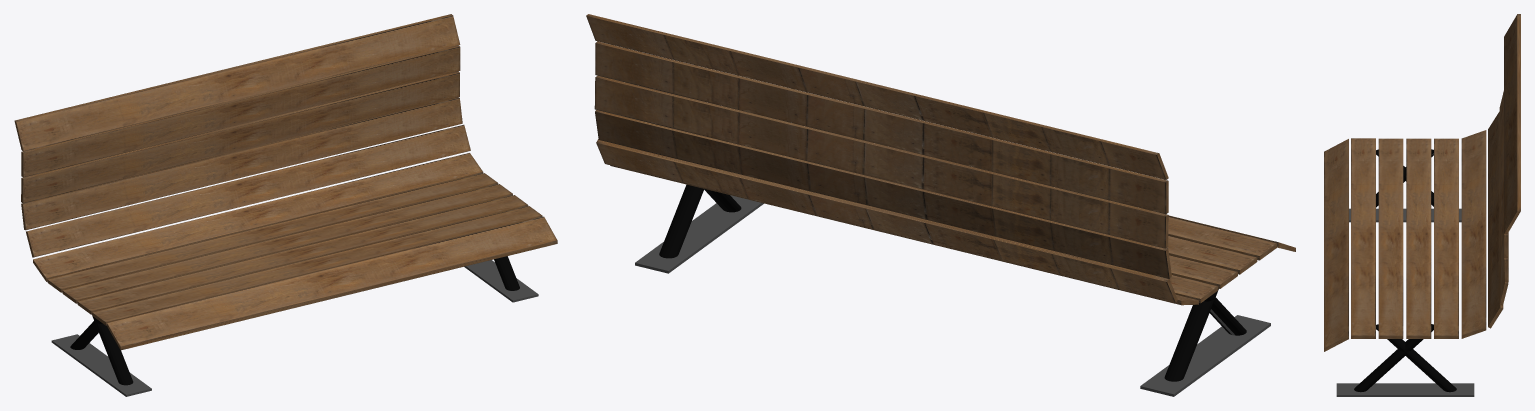
The model's file is Banco.glb.
3 views of the same model, side by side, from view 1: azimuth 30°, elevation 25°; view 2: azimuth 150°, elevation 25°; view 3: azimuth 270°, elevation 25° (orthographic). The views are drawn at different scales.
Parts seen in each view (by area): view 1: Banco; view 2: Banco; view 3: Banco.
Boxes of the visible parts, x1=… form: Banco: x1=14, y1=14, x2=557, y2=396; Banco: x1=586, y1=14, x2=1295, y2=396; Banco: x1=1324, y1=14, x2=1520, y2=396.
Bounding box in the file's own units: 6.81 × 3.06 × 2.86.
Materials: 3 (1 with a texture image).
